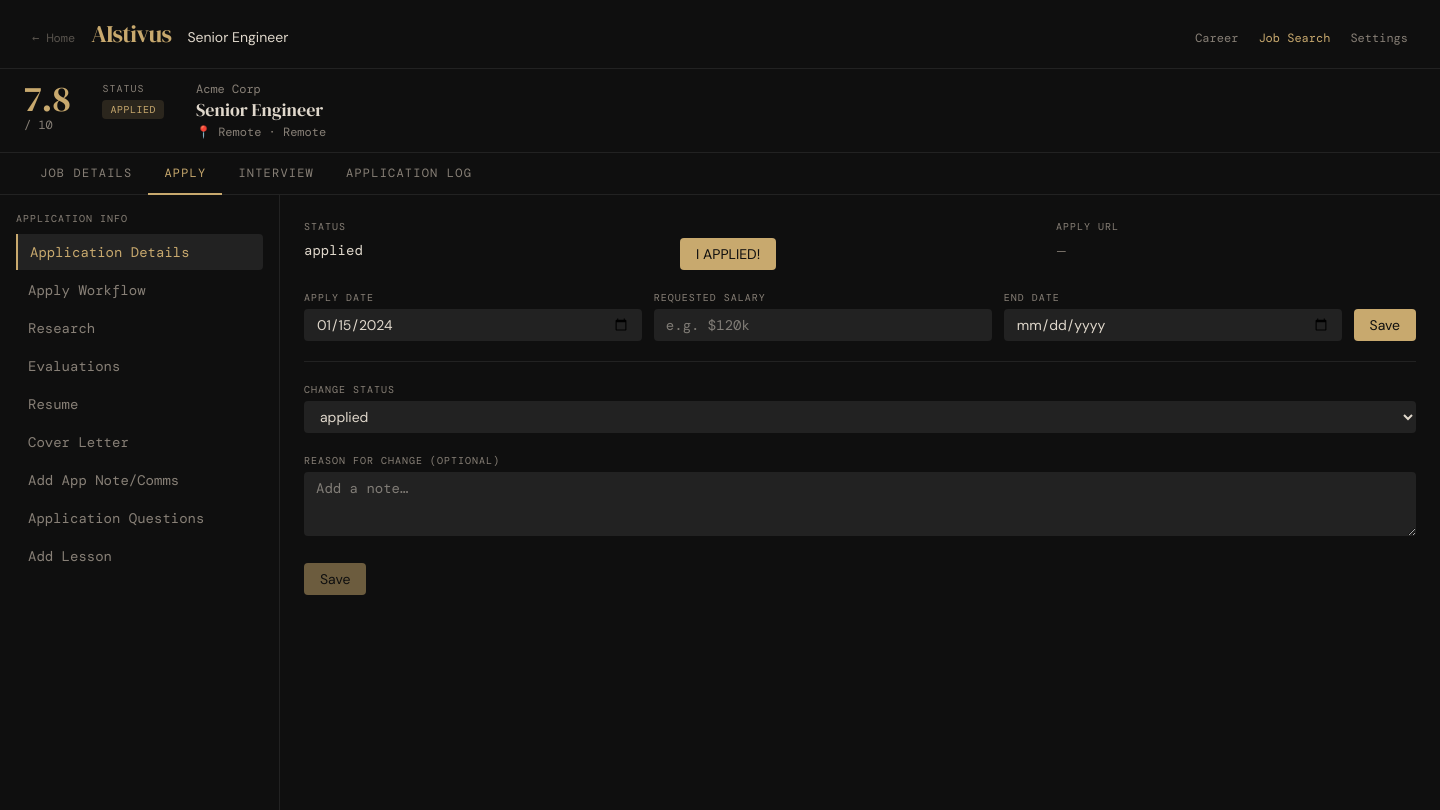
Test case: JobDetailPage workspace › shows APPLICATION QUESTIONS zero state when no questions exist
Click the button "Application Questions": click(140, 518) [16,500,263,536]
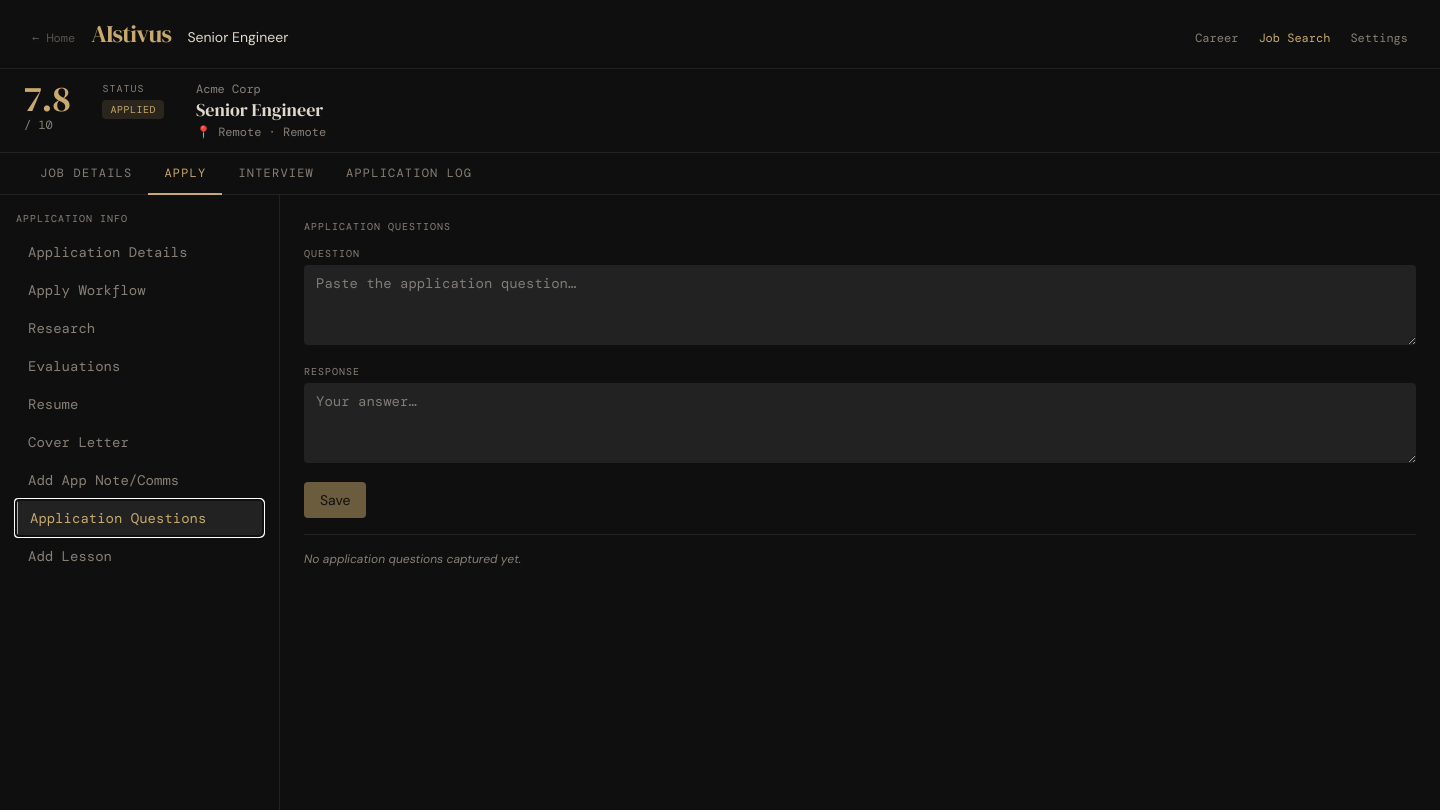
expect the text "No application questions captured yet." is shown: met, box [304,550,521,566]
